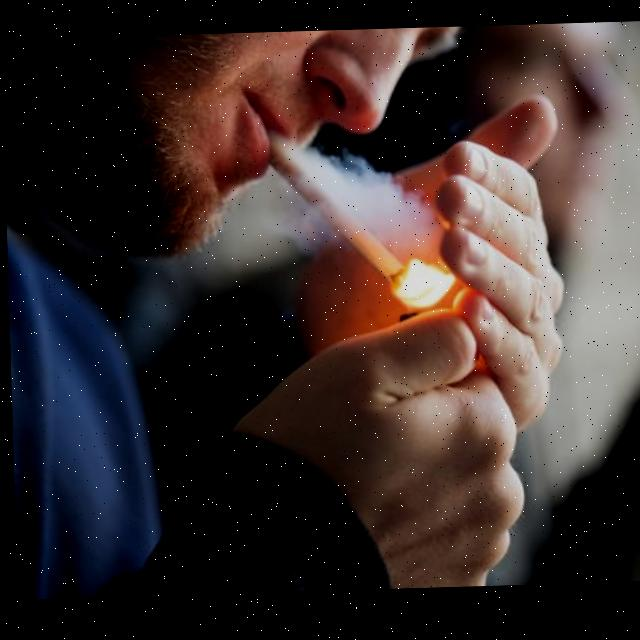cigarette: (267, 127, 405, 293)
